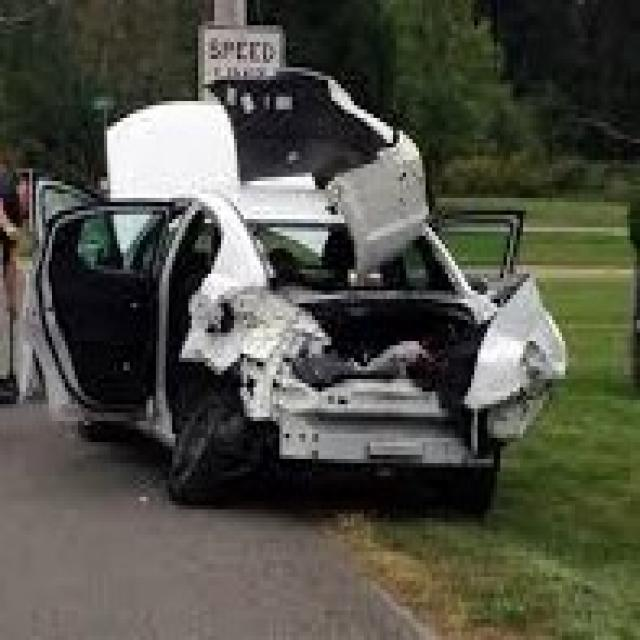severe: (52, 69, 508, 468)
